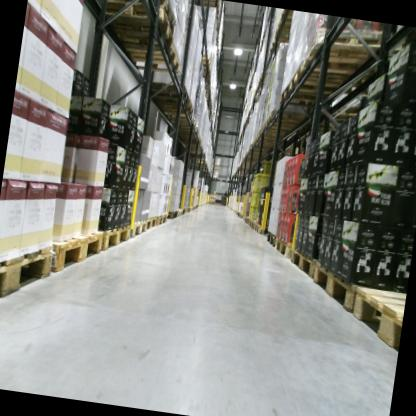pallet: (306, 254, 404, 330), (85, 0, 179, 55), (299, 24, 383, 79), (344, 280, 406, 352), (0, 236, 56, 309), (289, 59, 378, 101), (42, 222, 104, 281), (92, 0, 179, 34), (120, 37, 184, 78), (278, 77, 329, 110), (91, 219, 131, 255), (145, 78, 191, 107), (324, 100, 366, 127), (286, 246, 319, 280), (153, 93, 195, 116), (271, 9, 301, 41), (268, 38, 302, 57), (273, 235, 294, 259), (160, 109, 195, 123), (129, 215, 148, 239), (264, 227, 278, 247), (253, 221, 270, 236), (198, 54, 213, 69), (155, 212, 168, 228), (145, 214, 157, 231), (165, 209, 178, 220), (174, 207, 183, 218), (178, 206, 186, 215), (250, 219, 256, 230), (246, 217, 252, 228), (186, 205, 191, 213), (183, 206, 188, 213)
